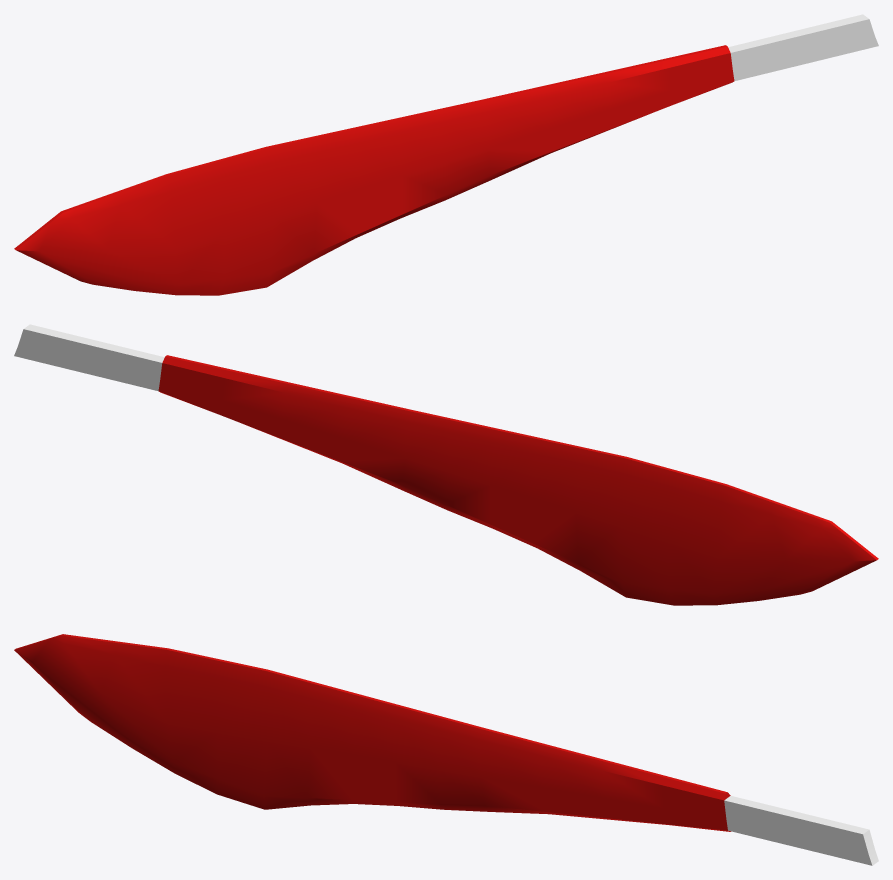
File: Feather_Shot_-_Projectile.fbx
3 views of the same model, one above another, from view 1: azimuth 30°, elevation 25°; view 2: azimuth 150°, elevation 25°; view 3: azimuth 330°, elevation 25° (orthographic).
Parts seen in each view (by area): view 1: Plane.008; view 2: Plane.008; view 3: Plane.008.
Part boxes in pixels (bbox=[...]): Plane.008: bbox=[14, 14, 878, 295]; Plane.008: bbox=[14, 324, 878, 605]; Plane.008: bbox=[14, 634, 878, 865].
Size of the model in its own units: 108 by 16.66 by 1.41.
